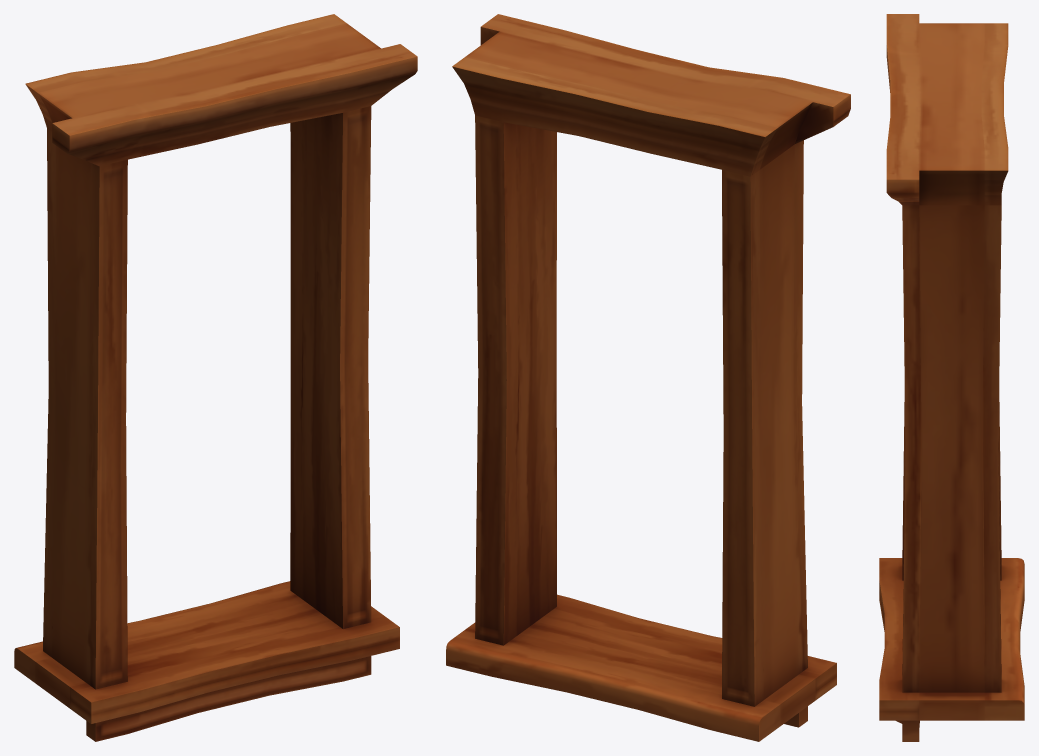
The model's file is PropWindow01TypeF_1_1.FBX.
3 views of the same model, side by side, from view 1: azimuth 30°, elevation 25°; view 2: azimuth 150°, elevation 25°; view 3: azimuth 270°, elevation 25° (orthographic). The views are drawn at different scales.
Parts seen in each view (by area): view 1: PropWindow01TypeF_1_1; view 2: PropWindow01TypeF_1_1; view 3: PropWindow01TypeF_1_1.
Boxes of the visible parts, x1=… form: PropWindow01TypeF_1_1: x1=14, y1=14, x2=417, y2=741; PropWindow01TypeF_1_1: x1=446, y1=14, x2=850, y2=741; PropWindow01TypeF_1_1: x1=879, y1=14, x2=1024, y2=741.
Size of what is drawn, in the model's own units: 1.16 by 1.98 by 0.4449.
